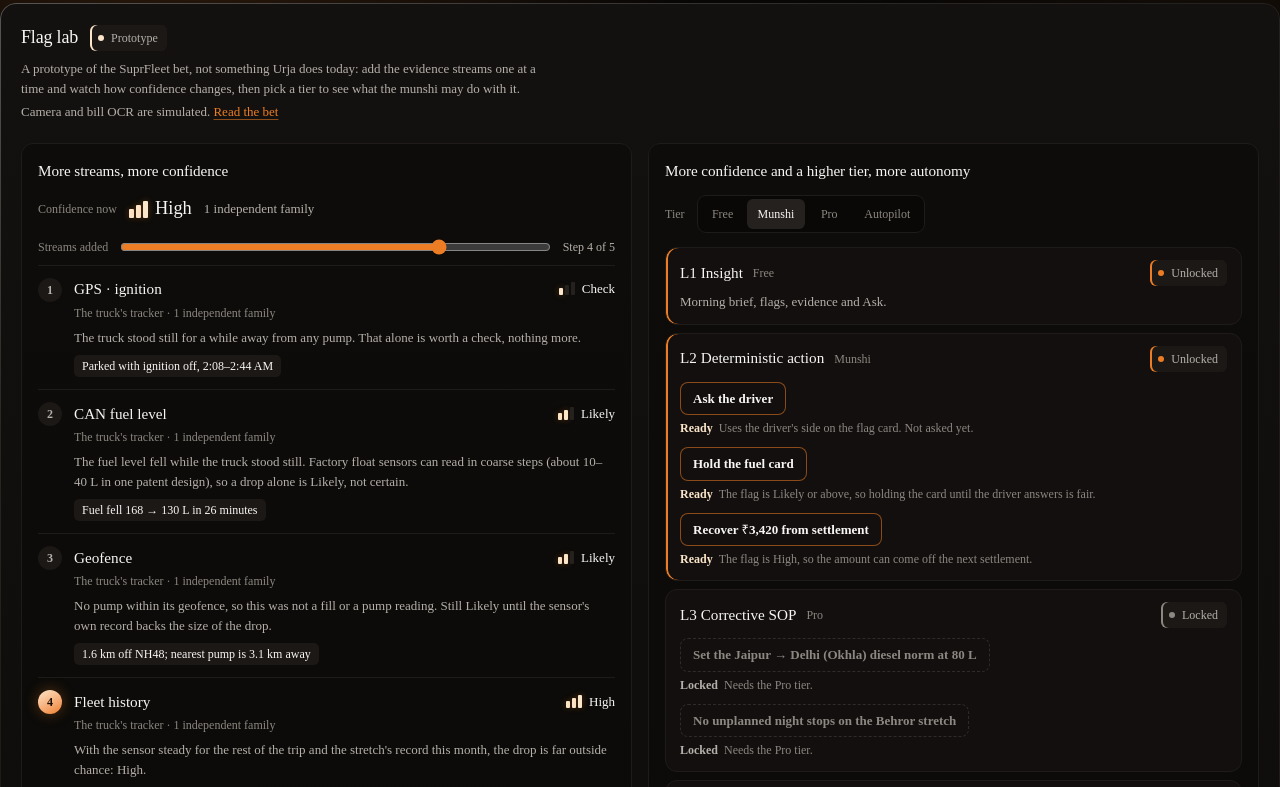
Test: FlagLab (0926-04, R1) › with Autopilot on the last step the L4 auto-hold is unlocked and available
Step 1. Click the button "Autopilot" → [887, 214], box [853, 199, 921, 229]
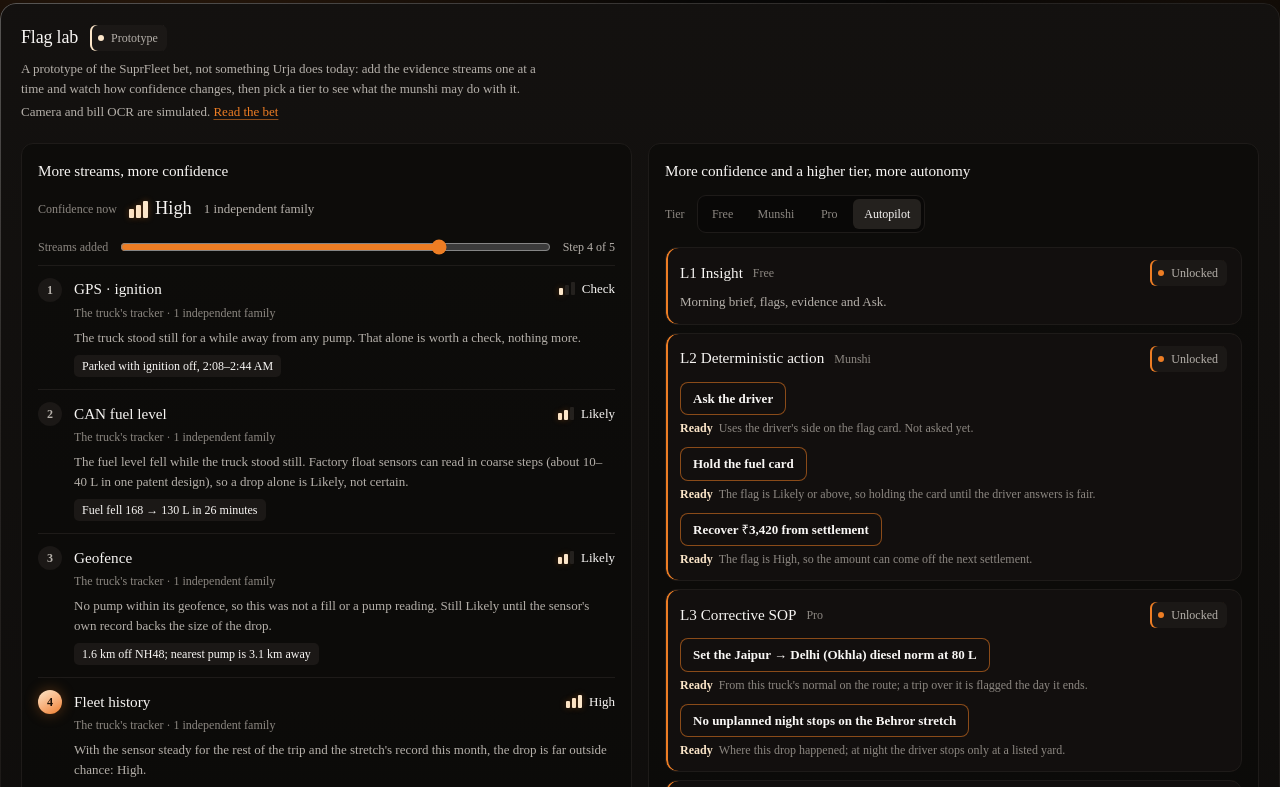
Step 2. Set the slider labelled "Streams added" to "5" → [543, 247], box [120, 235, 551, 259]
(page scrolled)
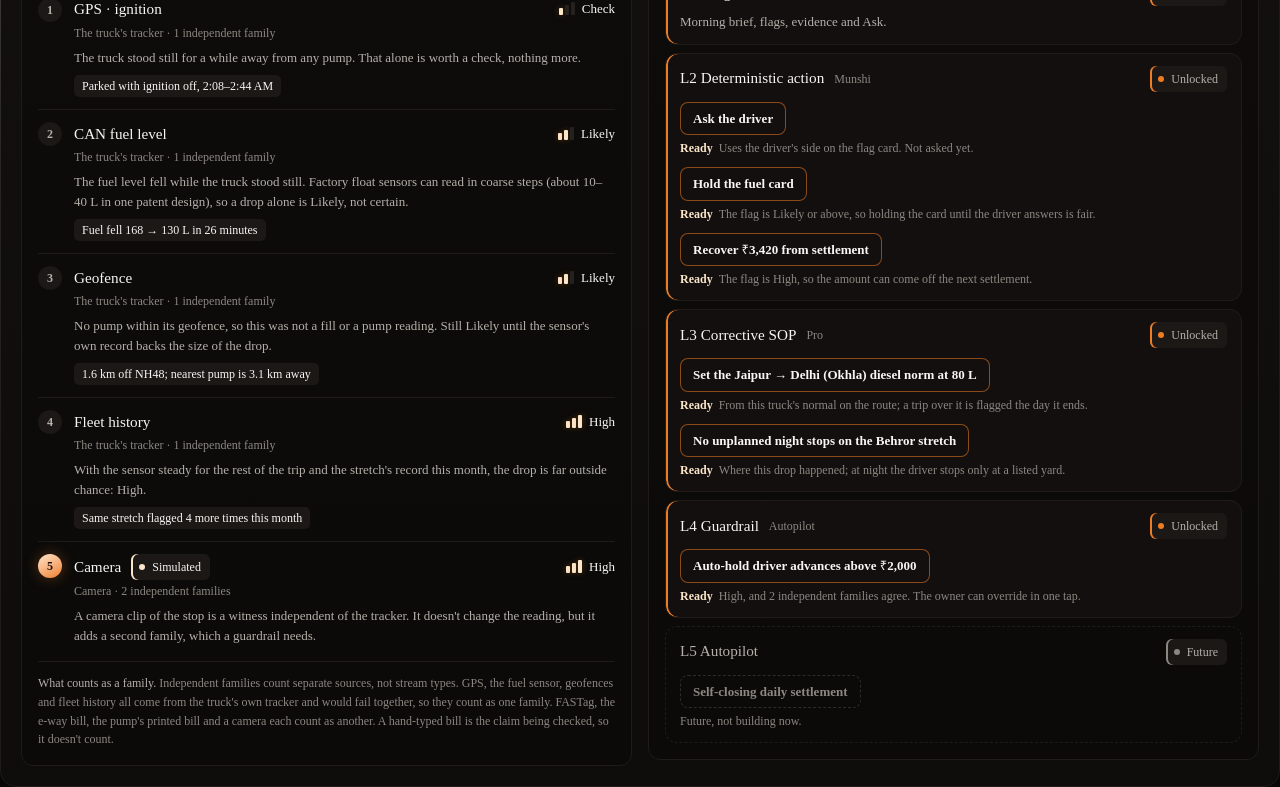
Expected: the button "Auto-hold driver advances above ₹2,000" is enabled, [680, 549, 930, 583]
